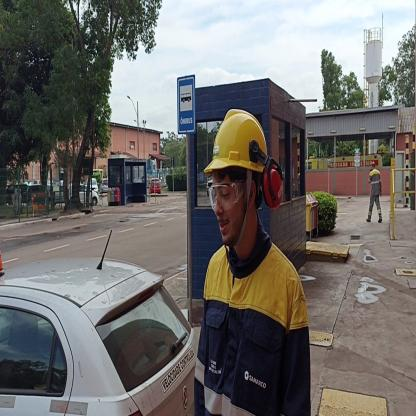C_eletrica: (202, 253, 304, 416)
Capacete: (207, 107, 270, 173)
